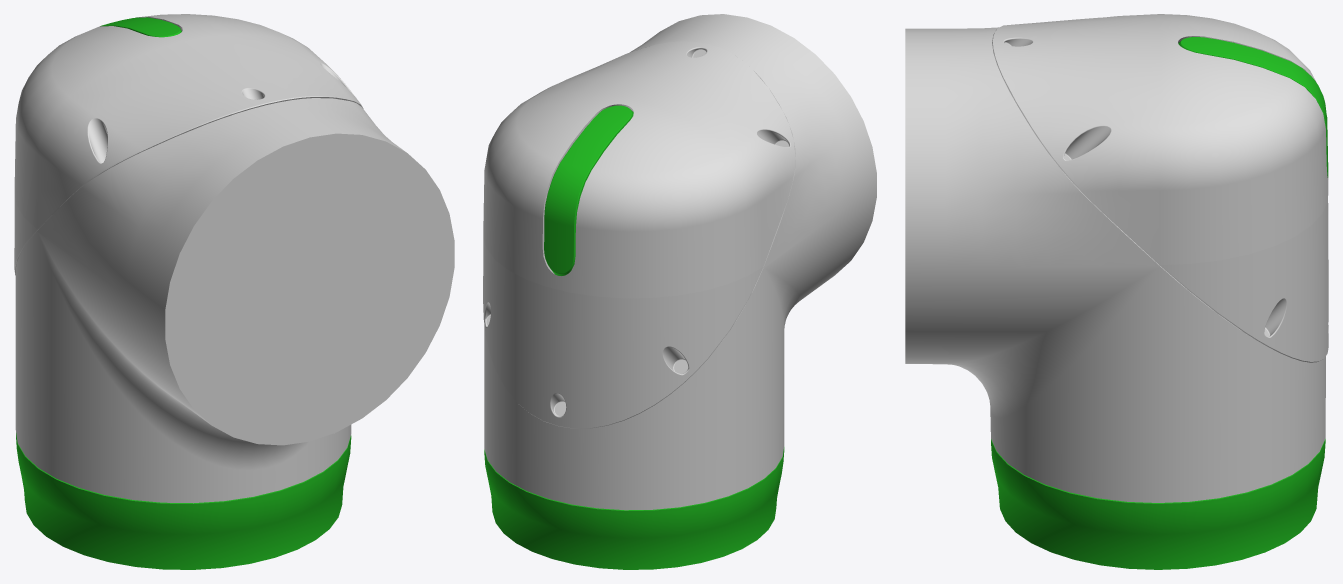
Rendered from Fanuc Base LED.fbx.
3 renders of one model, left to right at view 1: azimuth 30°, elevation 25°; view 2: azimuth 150°, elevation 25°; view 3: azimuth 270°, elevation 25°, orthographic. The views are drawn at different scales.
Visible parts, largest first — view 1: J2 base, LED; view 2: J2 base, LED; view 3: J2 base, LED.
Boxes of the visible parts, <box> form: J2 base: <box>14,14,454,569</box>; LED: <box>100,17,181,37</box>; J2 base: <box>483,14,876,569</box>; LED: <box>544,105,633,275</box>; J2 base: <box>905,14,1328,569</box>; LED: <box>1178,37,1328,177</box>.
Bounding box in the file's own units: 158 × 239 × 199.
